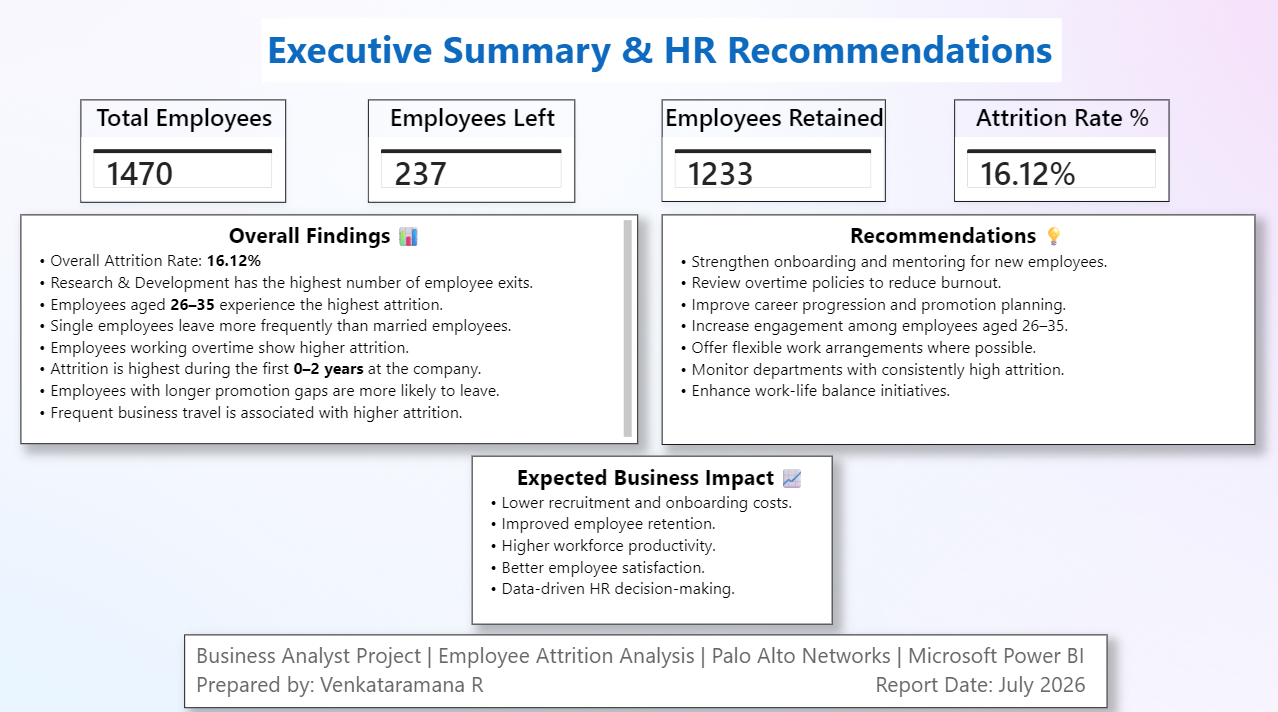

This screenshot's page, from the dashboard's own definition file:
{"tool":"powerbi","page":{"name":"Executive Summary & HR Recommendations","canvas":[1280,720],"ordinal":5},"visuals":[{"type":"cardVisual","title":"Total Employees","fields":{"Data":["Measures (2).Total Employees"]},"box":[82.9,102.9,205.7,102.9],"z":0},{"type":"cardVisual","title":"Employees Left","fields":{"Data":["Measures (2).Employees Left"]},"box":[370,102.9,207.1,102.9],"z":1000},{"type":"cardVisual","title":"Attrition Rate %","fields":{"Data":["Measures (2).Attrition Rate %"]},"box":[956.3,102.7,215.2,102.7],"z":2000},{"type":"cardVisual","title":"Employees Retained","fields":{"Data":["Measures (2).Employees Retained"]},"box":[664,102.7,223.8,102.7],"z":3000},{"type":"textbox","box":[264.3,21.4,800,64.3],"z":4000},{"type":"textbox","box":[22,217.7,617.5,229.9],"z":5000},{"type":"textbox","box":[663.8,217.5,593.8,230],"z":6000},{"type":"textbox","box":[473.2,458.6,360.7,168.8],"z":7000},{"type":"textbox","box":[185.9,637.1,923.2,73.4],"z":8000}]}

Visuals, with their boxes in screenshot pixels (x1, y1, x2, y2), scaled from the page's 1280x720 canvas onto the 1278x712 screenshot:
"Total Employees" cardVisual: (83,102,288,204)
"Employees Left" cardVisual: (369,102,576,204)
"Attrition Rate %" cardVisual: (955,102,1170,203)
"Employees Retained" cardVisual: (663,102,886,203)
textbox: (264,21,1063,85)
textbox: (22,215,639,443)
textbox: (663,215,1256,443)
textbox: (472,454,833,620)
textbox: (186,630,1107,703)
